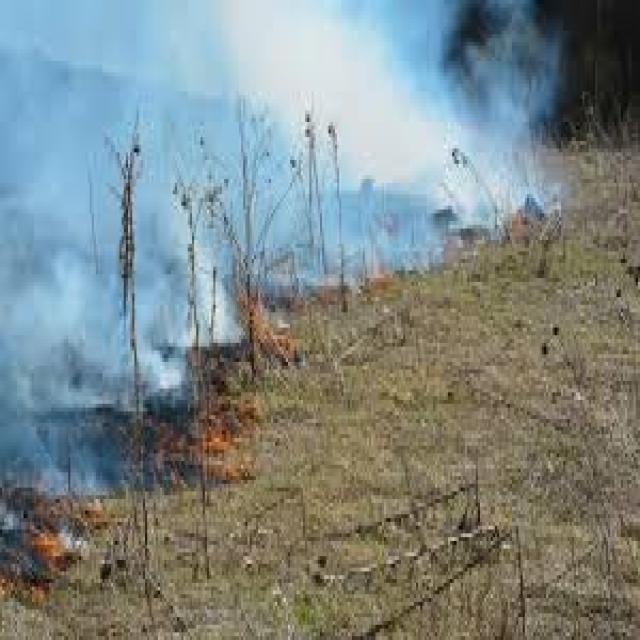Smoke: (0, 0, 590, 262), (0, 0, 244, 538)
